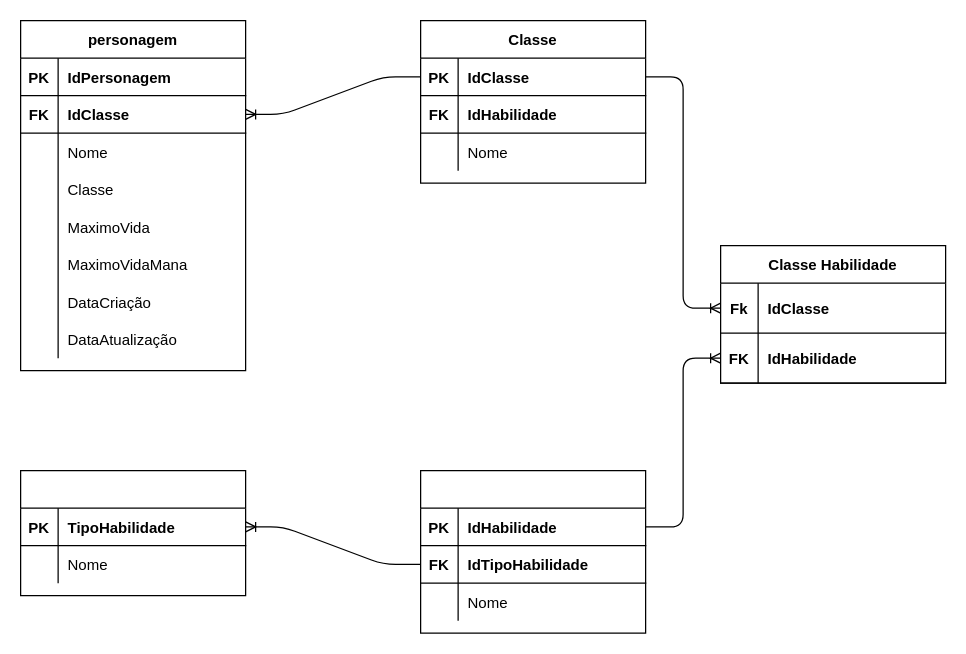
This 966x654 diagram has some shape labels left out. Each missing label, with the box of its shape:
Habilidades: (419, 469, 646, 633)
TipoHabilidades: (19, 469, 246, 596)
